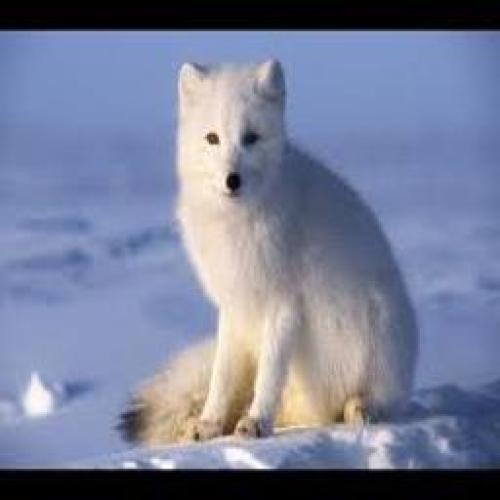arctic_fox-endangered: (134, 61, 418, 422)
